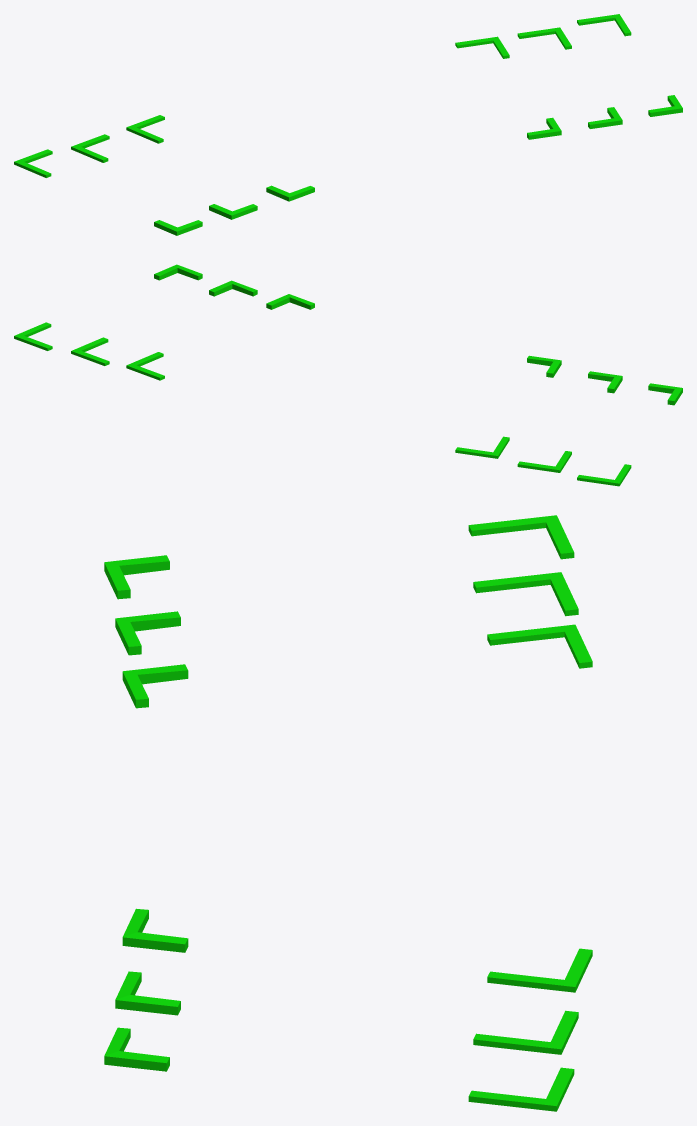
File: PreviewTileHoverModel.fbx
3 views of the same model, one above another, from view 1: azimuth 30°, elevation 25°; view 2: azimuth 150°, elevation 25°; view 3: azimuth 270°, elevation 25° (orthographic). The views are drawn at different scales.
Visible parts, largest first — view 1: PreviewTileInnerHover, PreviewTileMiddleHover, PreviewTileOuterHover; view 2: PreviewTileOuterHover, PreviewTileInnerHover, PreviewTileMiddleHover; view 3: PreviewTileInnerHover, PreviewTileOuterHover, PreviewTileMiddleHover.
Boxes of the visible parts, box(x1,y1,x2,y2) form: PreviewTileInnerHover: box(126, 36, 561, 201); PreviewTileMiddleHover: box(71, 27, 622, 219); PreviewTileOuterHover: box(14, 14, 682, 235); PreviewTileOuterHover: box(14, 264, 682, 486); PreviewTileInnerHover: box(126, 294, 561, 458); PreviewTileMiddleHover: box(71, 280, 622, 472); PreviewTileInnerHover: box(122, 624, 592, 992); PreviewTileOuterHover: box(104, 515, 574, 1111); PreviewTileMiddleHover: box(115, 572, 578, 1054).
Size of the model in its own units: 538 by 6.38 by 188.
